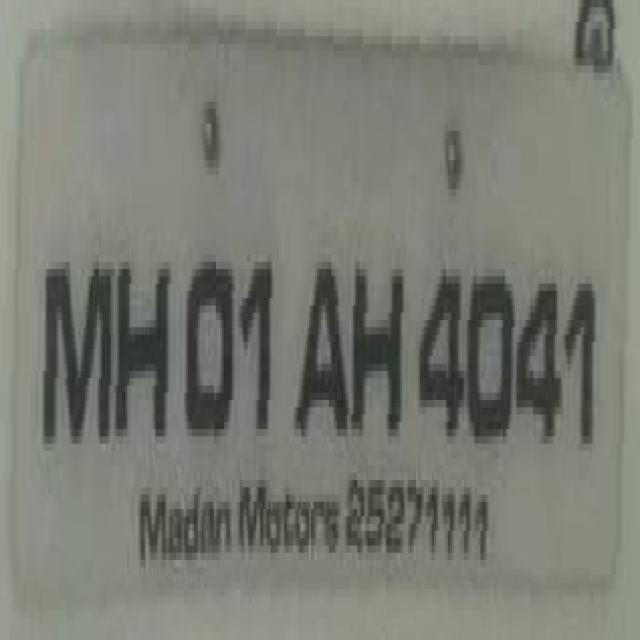license_plate: (0, 29, 610, 567)
